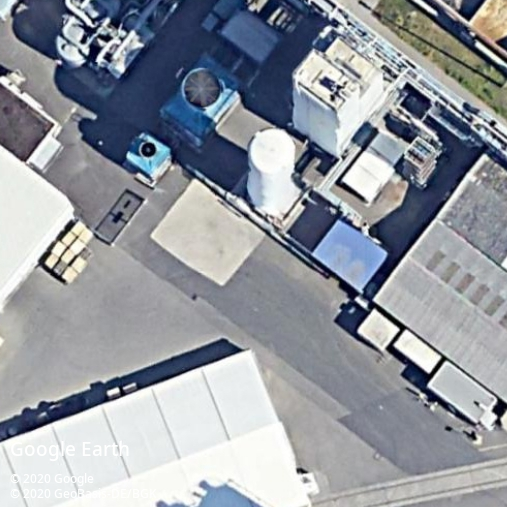Vent: (182, 68, 223, 111), (138, 141, 158, 160)
